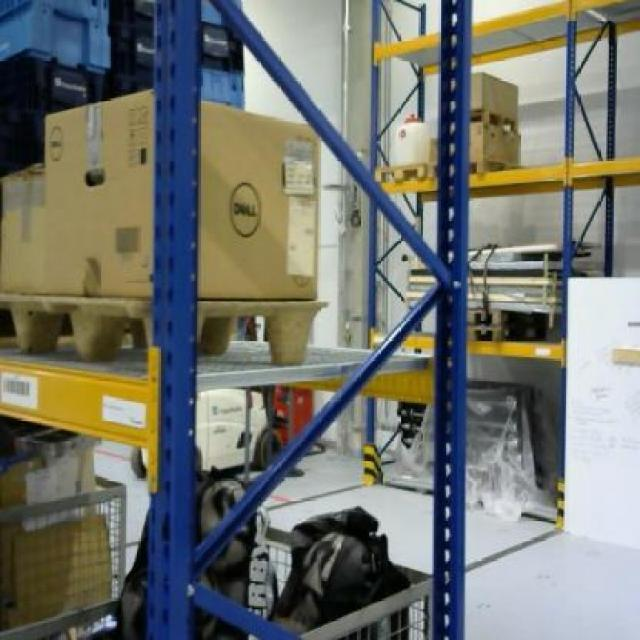box: (46, 84, 320, 300), (1, 160, 44, 294), (472, 69, 520, 117), (470, 124, 524, 162)
